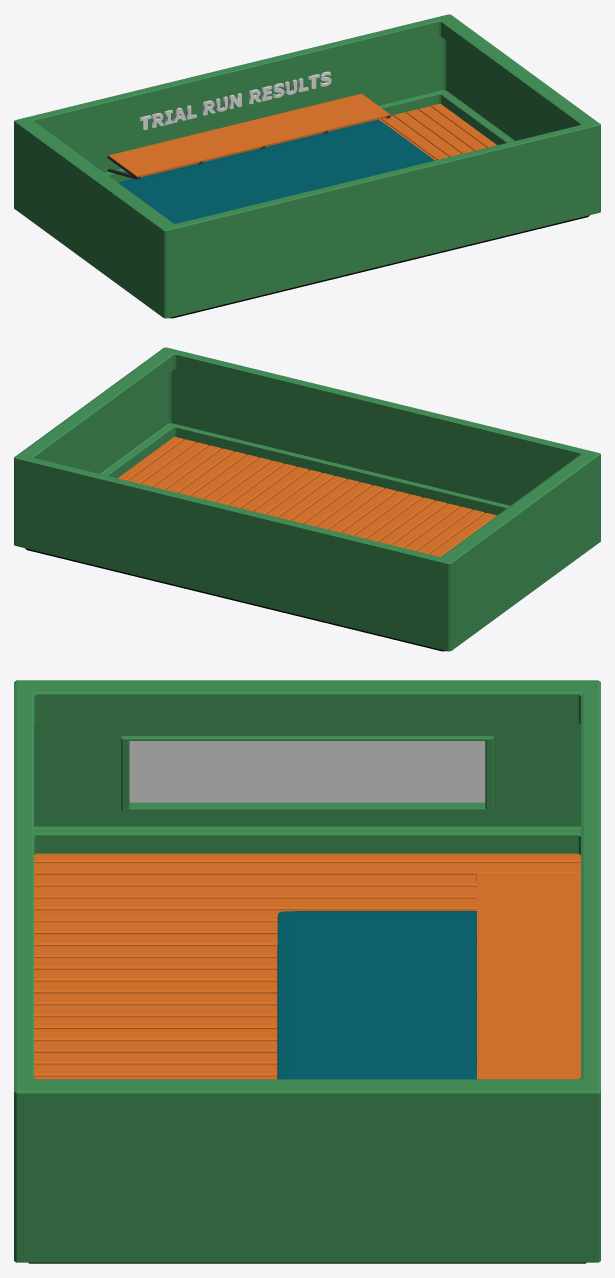
The model's file is TestingRoom.fbx.
3 renders of one model, top to bottom at view 1: azimuth 30°, elevation 25°; view 2: azimuth 150°, elevation 25°; view 3: azimuth 270°, elevation 25°, orthographic. The views are drawn at different scales.
Parts seen in each view (by area): view 1: Walls, Carpet, Cube, Planks, Text, Underfloor; view 2: Walls, Planks, Underfloor; view 3: Walls, Planks, Carpet, WindowLight, Cube, Underfloor.
Part boxes in pixels (x1=…): Walls: x1=14, y1=14, x2=600, y2=318; Carpet: x1=118, y1=119, x2=434, y2=223; Cube: x1=108, y1=93, x2=390, y2=177; Planks: x1=132, y1=104, x2=496, y2=178; Text: x1=139, y1=71, x2=331, y2=129; Underfloor: x1=168, y1=215, x2=589, y2=318; Walls: x1=14, y1=347, x2=600, y2=651; Planks: x1=118, y1=437, x2=496, y2=556; Underfloor: x1=25, y1=548, x2=446, y2=651; Walls: x1=14, y1=680, x2=600, y2=1262; Planks: x1=34, y1=853, x2=580, y2=1079; Carpet: x1=277, y1=911, x2=476, y2=1079; WindowLight: x1=129, y1=741, x2=485, y2=802; Cube: x1=477, y1=873, x2=580, y2=1079; Underfloor: x1=28, y1=1262, x2=586, y2=1263.
Bounding box in the file's own units: 1036 × 210 × 622.
